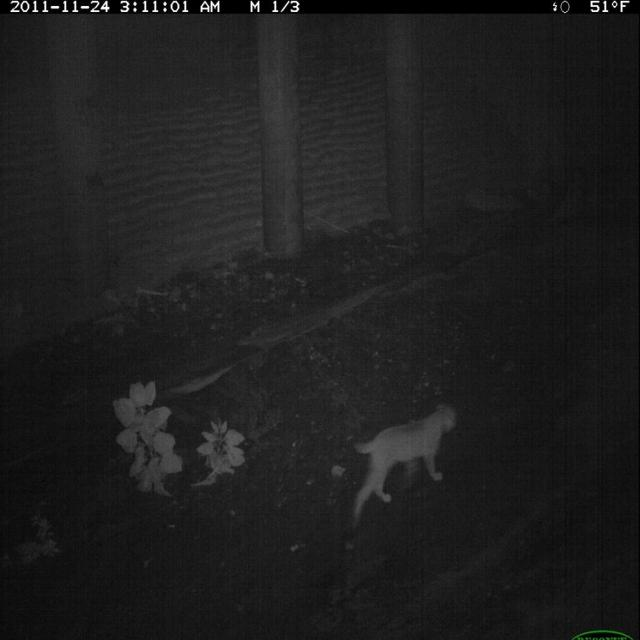bobcat: (348, 393, 464, 536)
